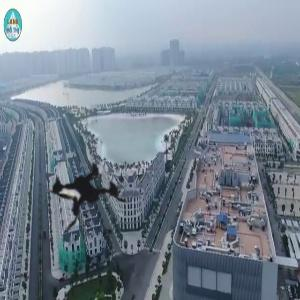drone: (13, 112, 162, 261)
